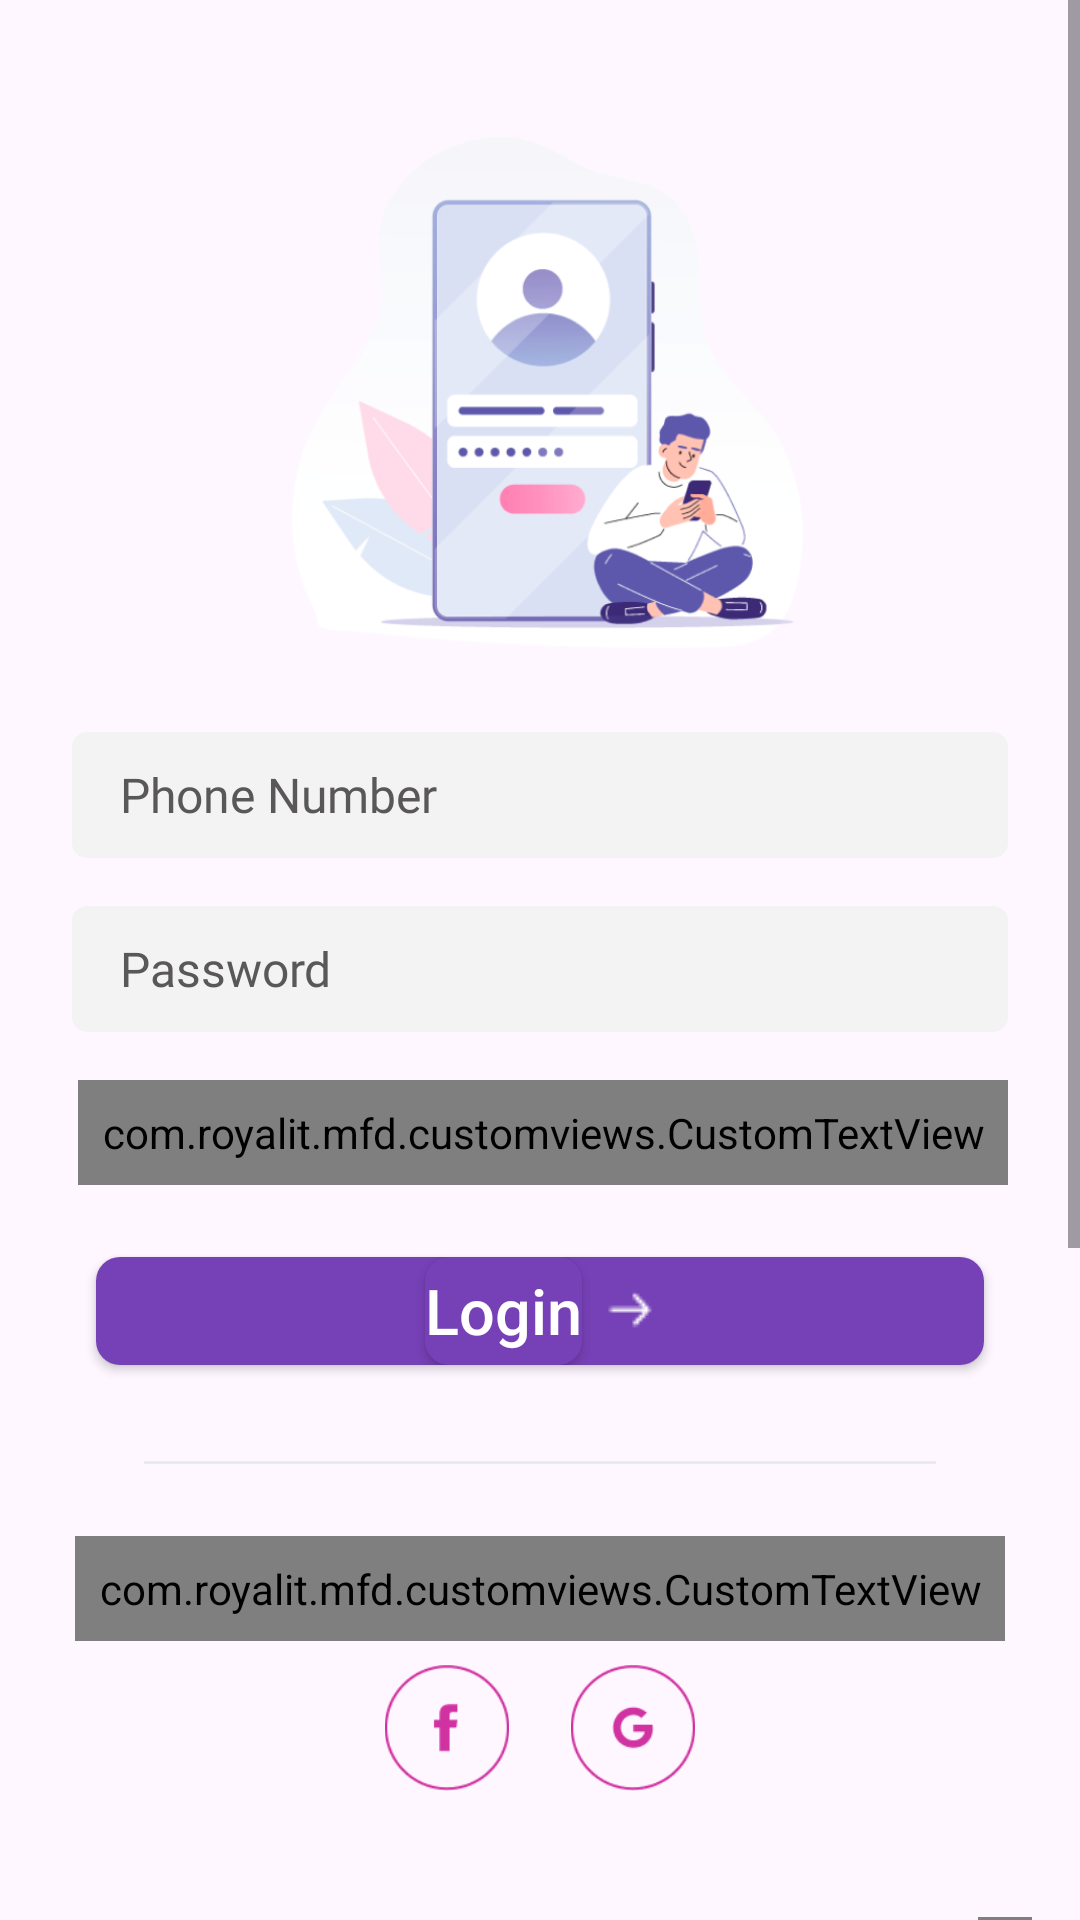

Icons on this 1080 × 1920 Android screen, each with its box as Rect(x1, y1, x2, y2):
arrow right: Rect(608, 1293, 652, 1327)
